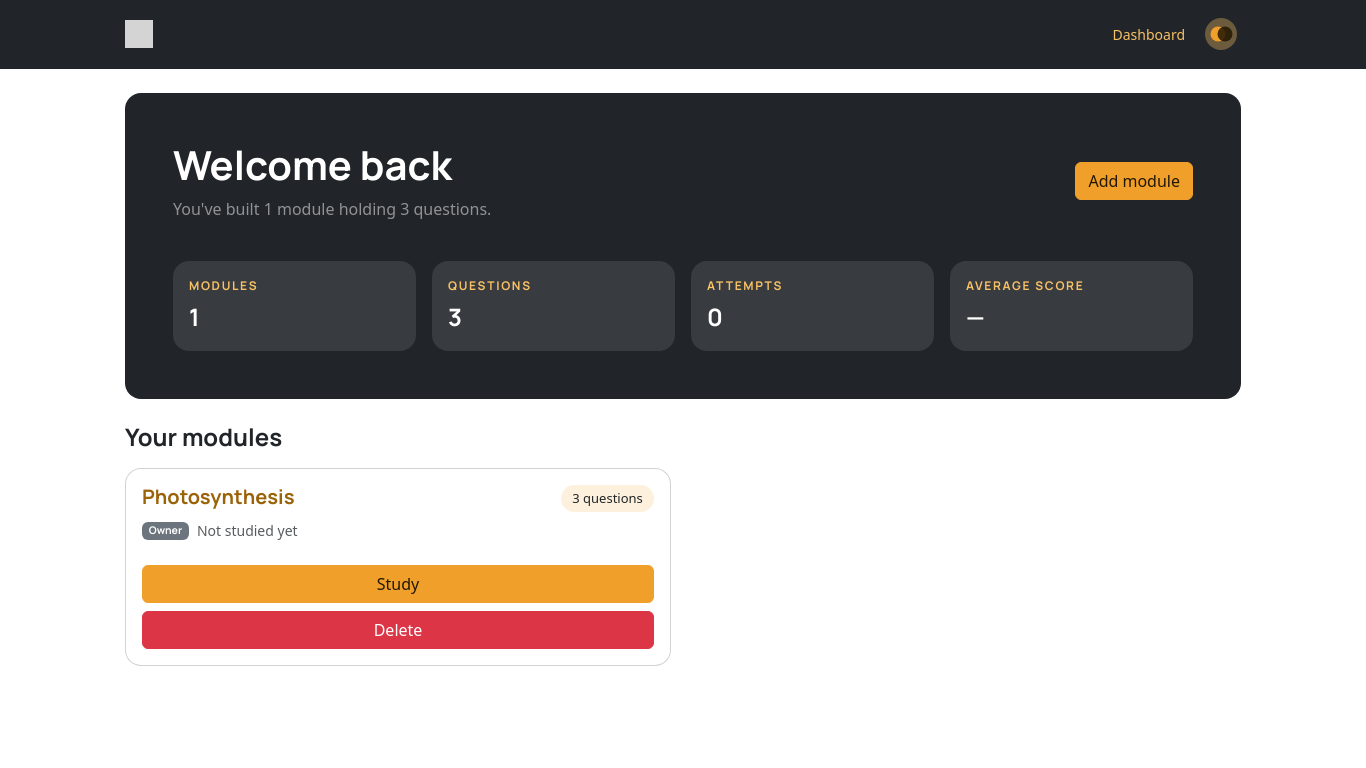
it: study mode selection › offers the three study modes with flashcards preselected
Click the button with aria-label "Study Photosynthesis". click: (398, 584)
box: [142,565,654,603]
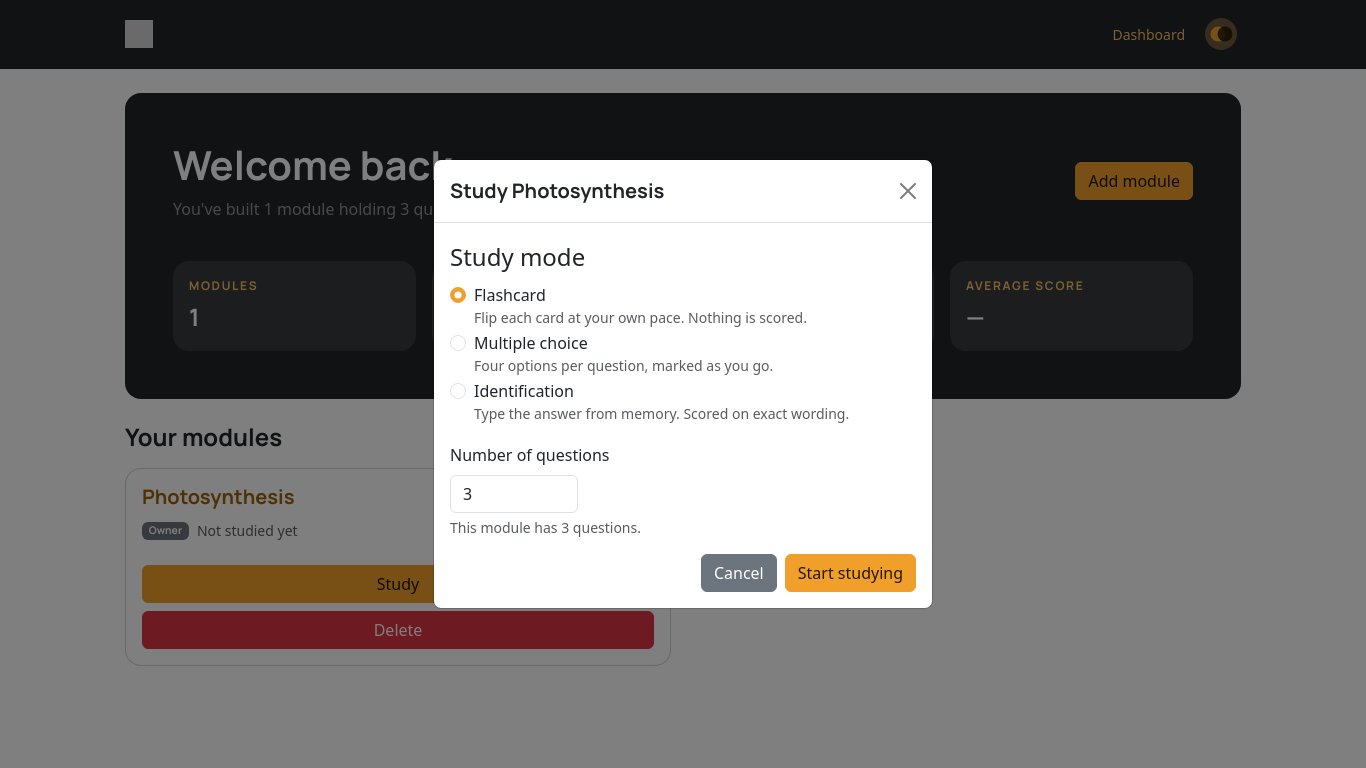
expect the radio button labelled "Flashcard" is checked: met, box [450,287,466,303]
